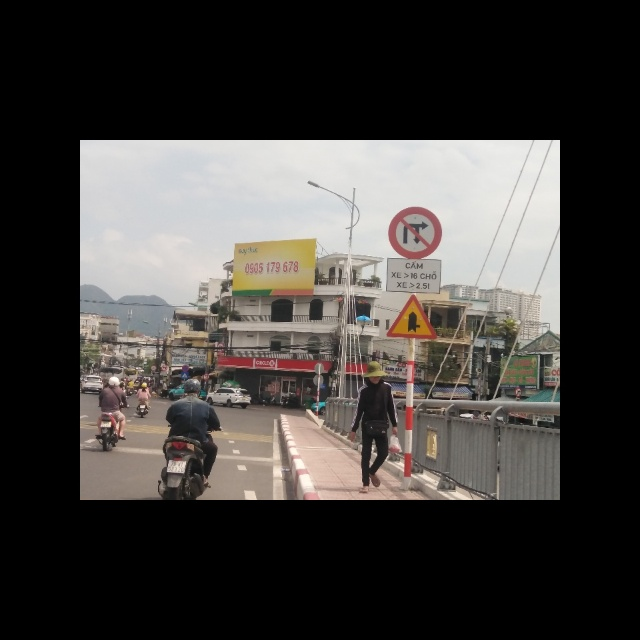Cấm quay đầu và rẽ phải: (387, 206, 442, 259)
Giao nhau với đường không ưu tiên: (386, 294, 438, 339)
